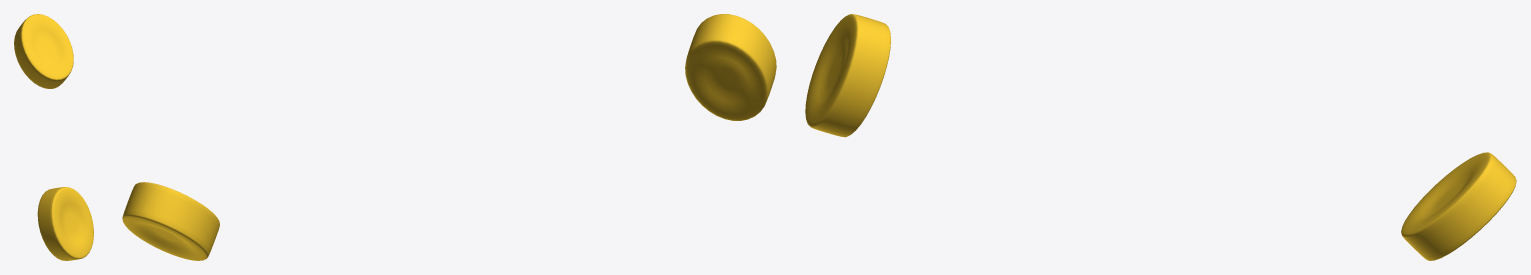
Rendered from m_environment2_coughDrop_je_4.fbx.
3 renders of one model, left to right at view 1: azimuth 30°, elevation 25°; view 2: azimuth 150°, elevation 25°; view 3: azimuth 270°, elevation 25°, orthographic. The views are drawn at different scales.
Parts seen in each view (by area): view 1: polySurface301; view 2: polySurface301; view 3: polySurface301.
Boxes of the visible parts, x1,y1,x2,y2 form: polySurface301: [14, 14, 93, 260]; polySurface301: [122, 14, 776, 260]; polySurface301: [805, 14, 1516, 260].
Size of the model in its own units: 12.55 by 4 by 22.25.
